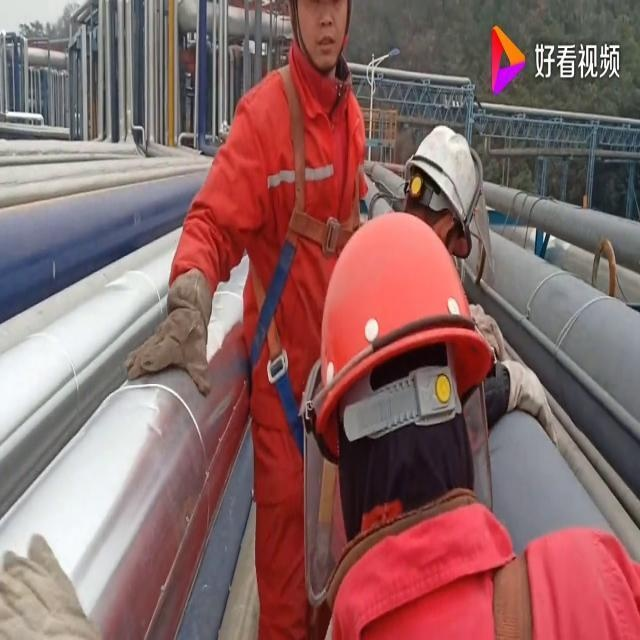Arnes_seguridad: (244, 42, 358, 413)
